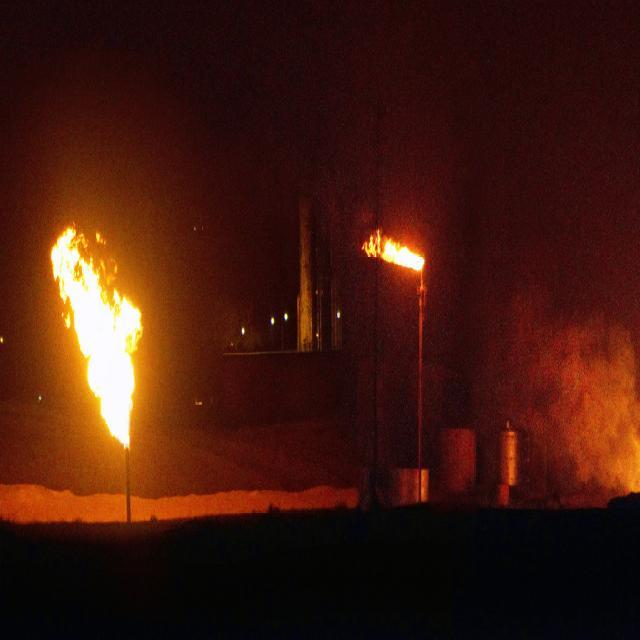Fire: (84, 276, 140, 434), (382, 239, 425, 281)
